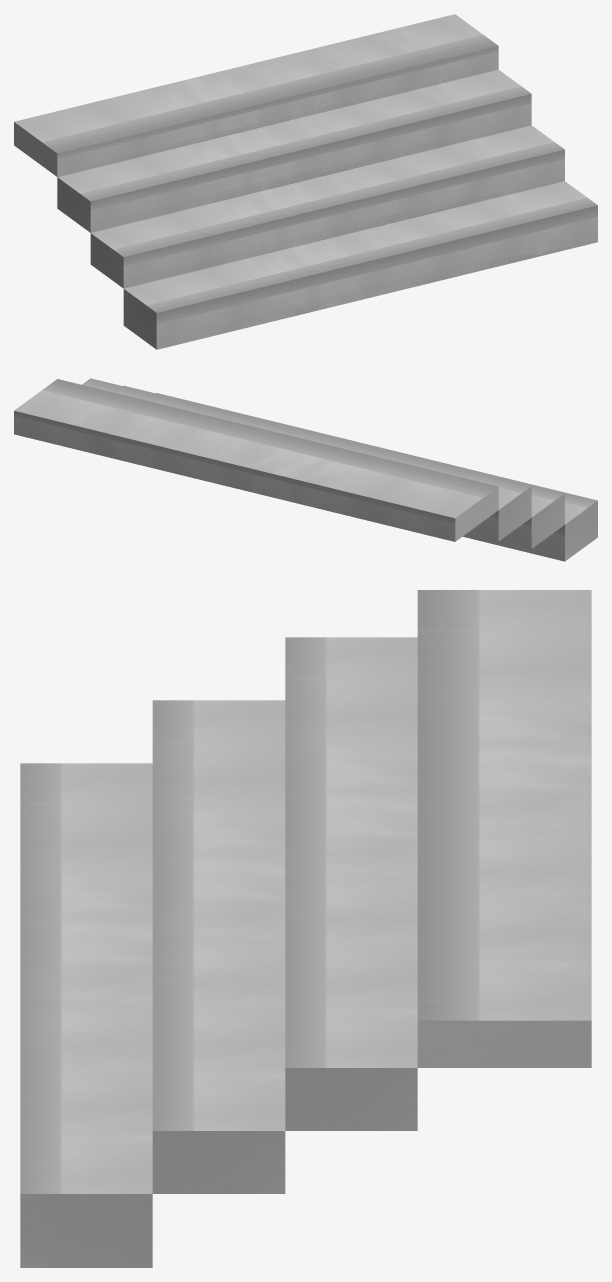
File: stairs.fbx
3 views of the same model, one above another, from view 1: azimuth 30°, elevation 25°; view 2: azimuth 150°, elevation 25°; view 3: azimuth 270°, elevation 25° (orthographic). The views are drawn at different scales.
Visible parts, largest first — view 1: stairs; view 2: stairs; view 3: stairs.
Boxes of the visible parts, x1,y1,x2,y2 form: stairs: (14, 14, 597, 349); stairs: (14, 378, 597, 561); stairs: (20, 590, 591, 1267).
Size of the model in its own units: 600 by 161 by 336.
